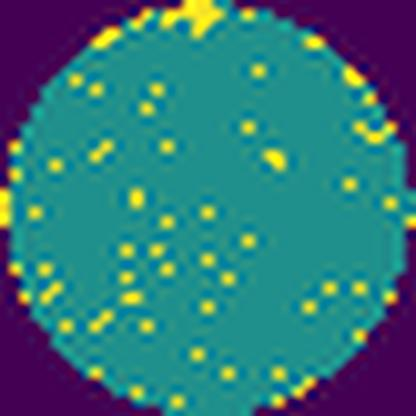Edge-Loc: (162, 0, 225, 39)
